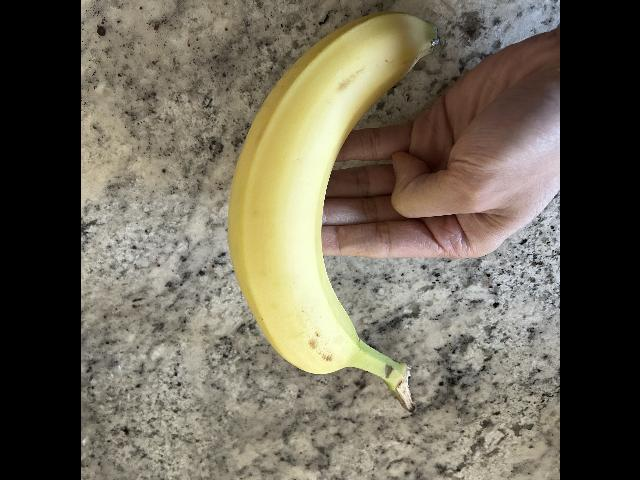Bananas: (225, 13, 440, 411)
